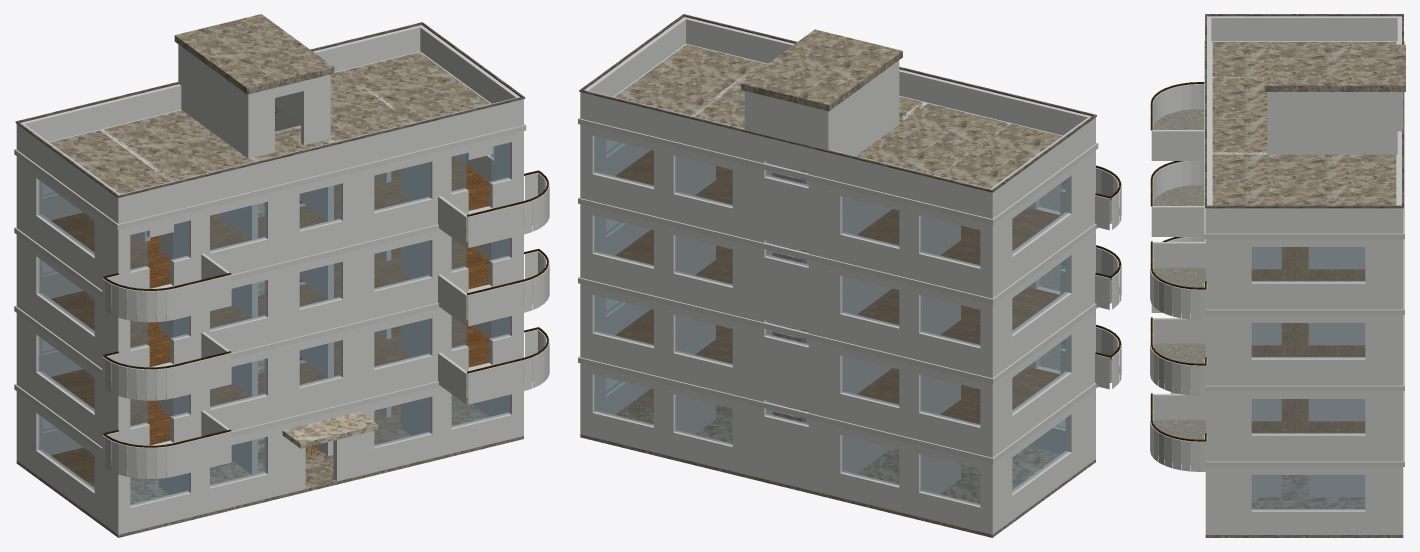
The model's file is bauhaus-block.bauhaus-v4.lod0.glb.
The picture shows the model from 3 angles, left to right: view 1: azimuth 30°, elevation 25°; view 2: azimuth 150°, elevation 25°; view 3: azimuth 270°, elevation 25°; orthographic projection. The views are drawn at different scales.
Visible parts, largest first — view 1: bauhaus-block; view 2: bauhaus-block; view 3: bauhaus-block.
Boxes of the visible parts, box(x1,y1,x2,y2) form: bauhaus-block: box(14, 14, 549, 537); bauhaus-block: box(578, 14, 1121, 537); bauhaus-block: box(1150, 14, 1405, 537).
Bounding box in the file's own units: 18.12 × 15.55 × 9.46.
6 materials, 4 textured.
